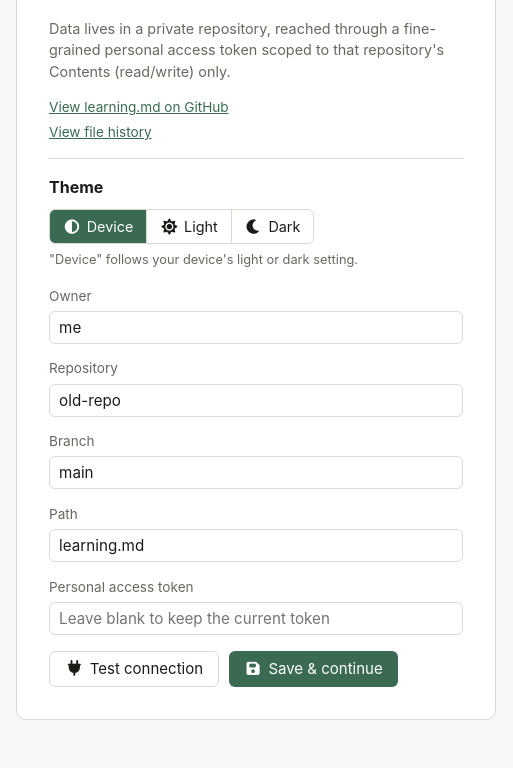
Scenario: connection test › shows the number of characters that it read
The width and height of the screenshot is (513, 768).
(page scrolled)
Click the button "Test connection": (134, 669) [49,651,219,687]
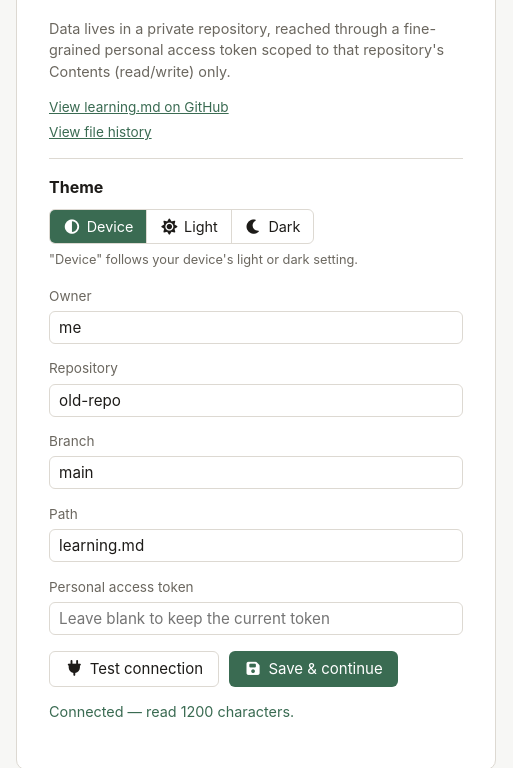
Result: the text "Connected — read 1200 characters." is shown at [49,703,294,720]
